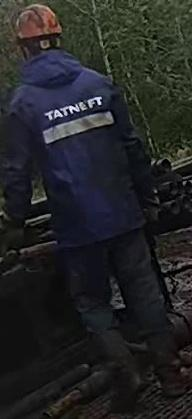helmet: (13, 3, 62, 43)
vest: (8, 49, 153, 247)
